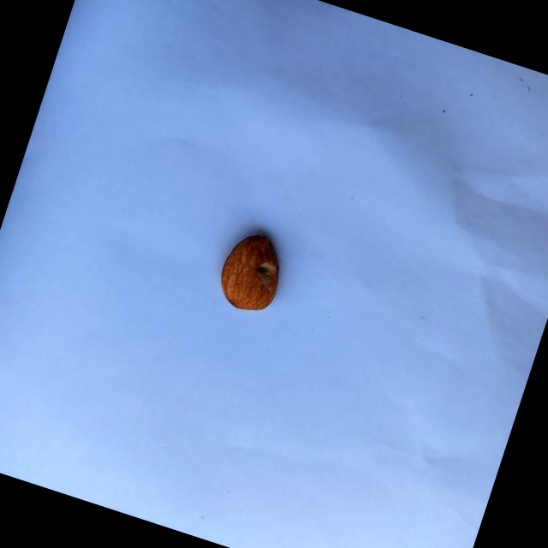grade3: (210, 223, 297, 323)
